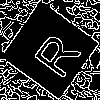R: (25, 24, 83, 81)
